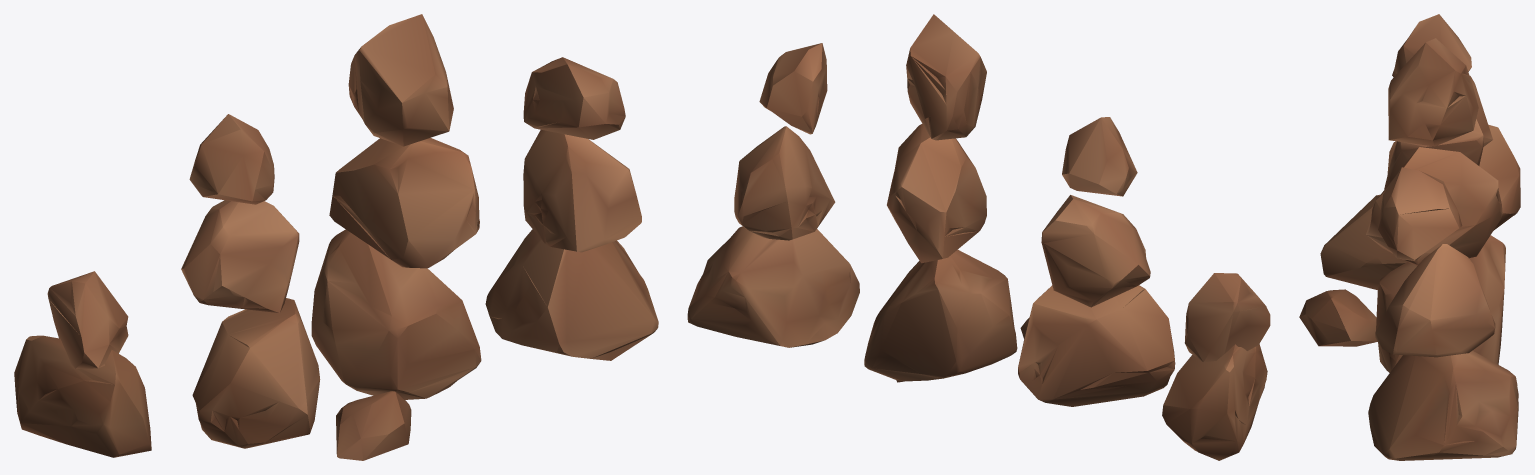
Rendered from rock.sandstone_spires.red.glb.
3 renders of one model, left to right at view 1: azimuth 30°, elevation 25°; view 2: azimuth 150°, elevation 25°; view 3: azimuth 270°, elevation 25°, orthographic. The views are drawn at different scales.
Visible parts, largest first — view 1: rock_sandstone_spires_red; view 2: rock_sandstone_spires_red; view 3: rock_sandstone_spires_red.
Boxes of the visible parts, x1,y1,x2,y2 form: rock_sandstone_spires_red: (14, 14, 658, 460); rock_sandstone_spires_red: (687, 14, 1270, 460); rock_sandstone_spires_red: (1299, 14, 1520, 460).
Size of what is drawn, in the model's own units: 13.52 by 8.04 by 4.75.
